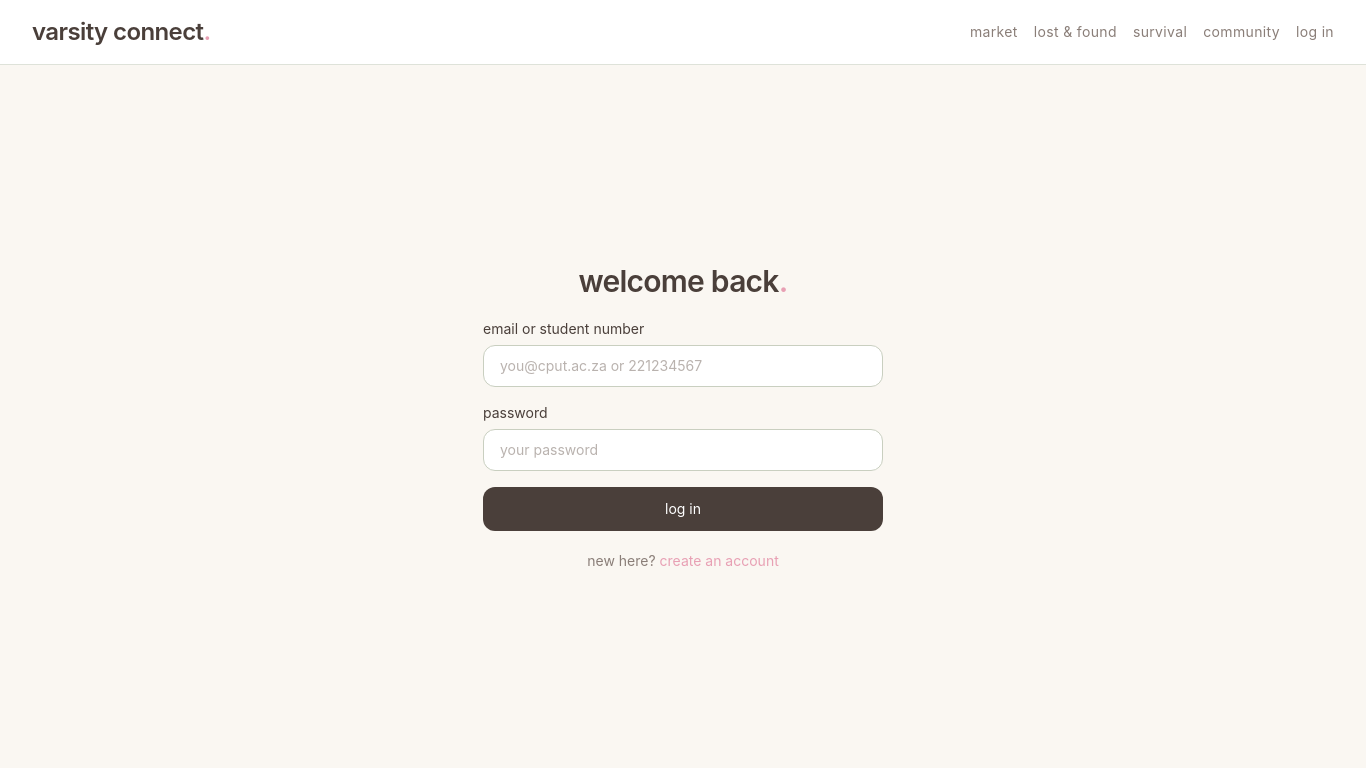
Test case: login page › shows an invalid-credentials state on wrong password
The width and height of the screenshot is (1366, 768).
Type "student@cput.ac.za" into the field labelled "email or student number" at (683, 366), box [483,344,883,386]
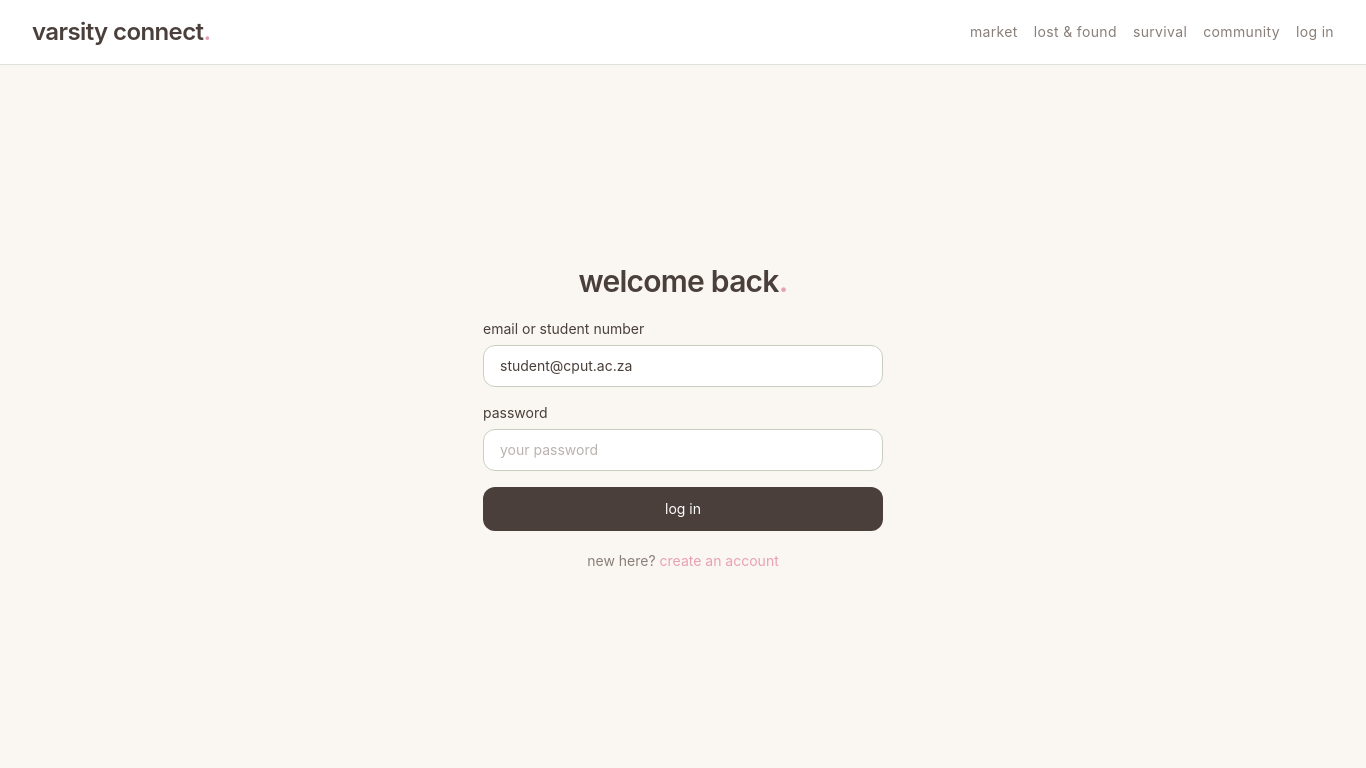
Type "wrong-password" into the password field labelled "password" at (683, 450), box [483,428,883,470]
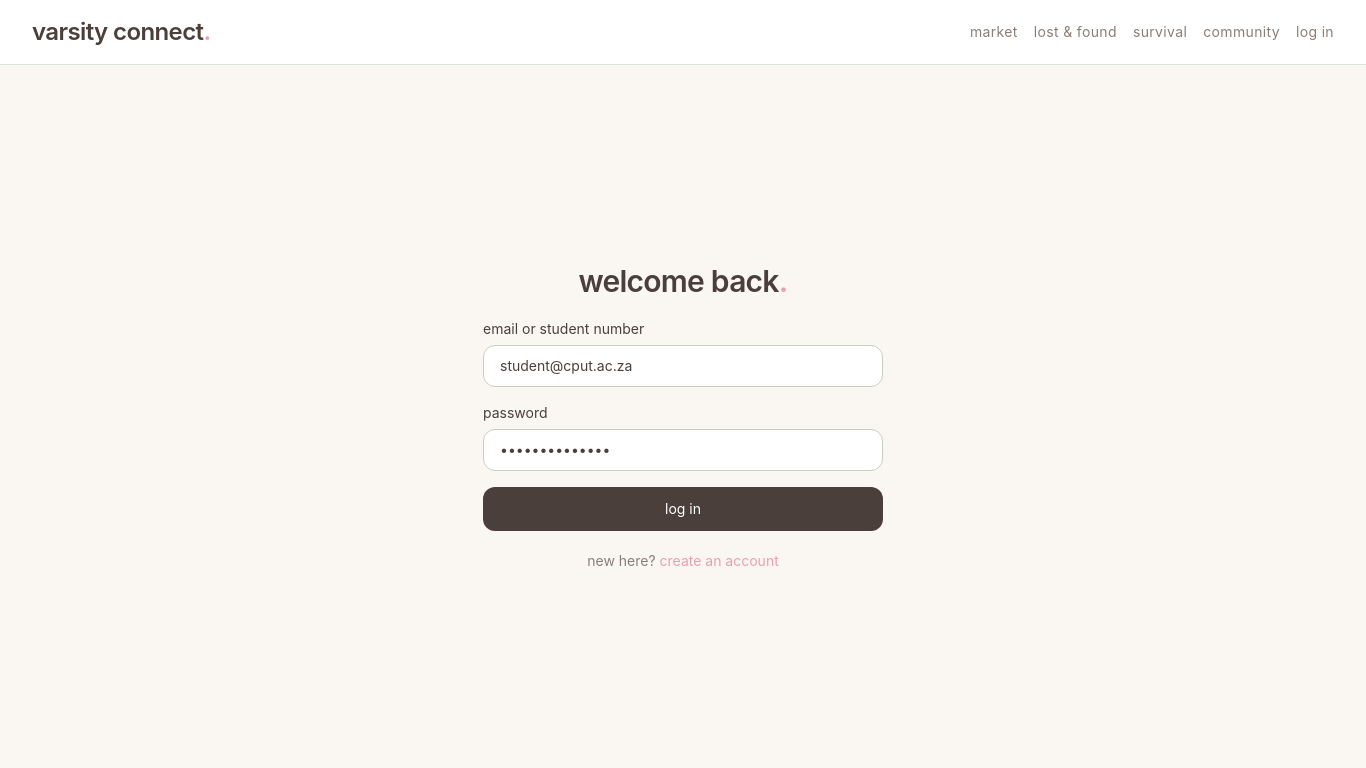
Click the button "log in" at (683, 508), box [483,486,883,530]
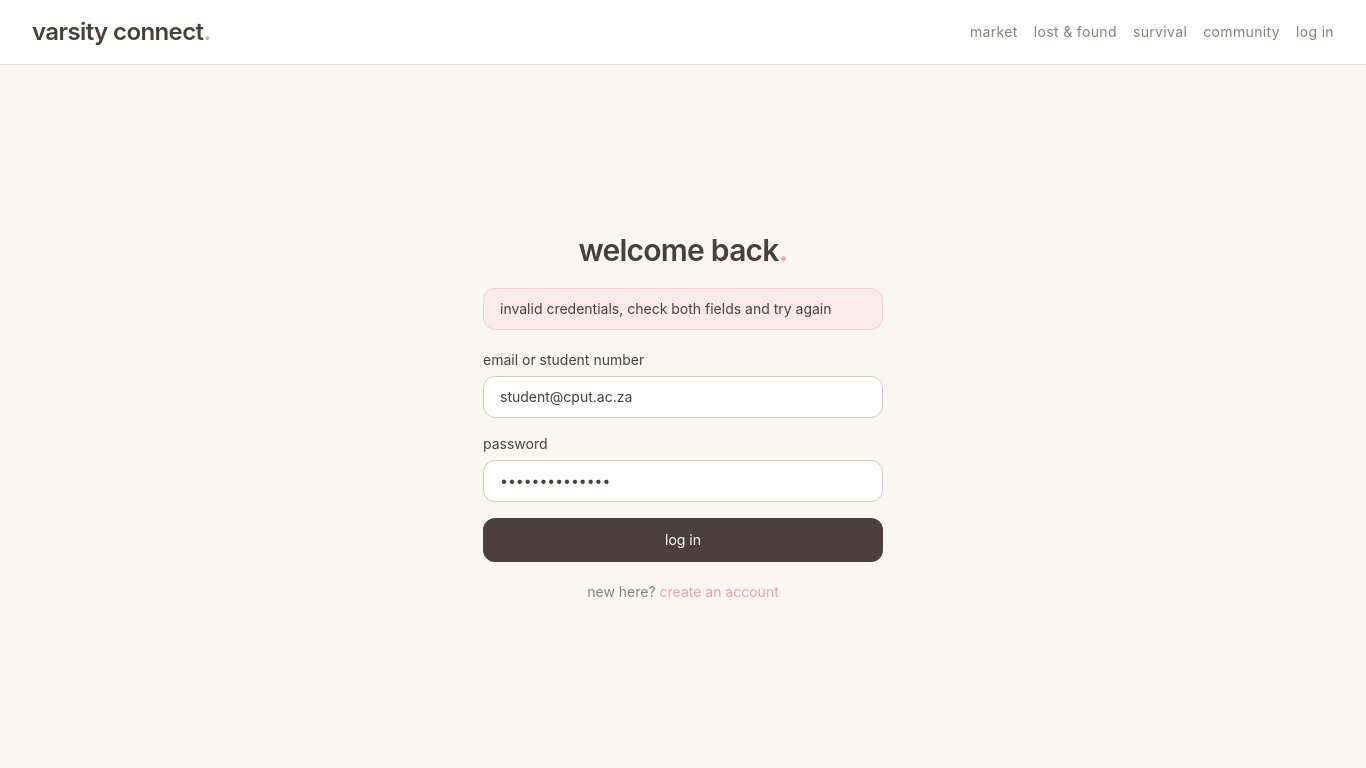
Check: the message shows "invalid credentials", box [500,300,832,316]
